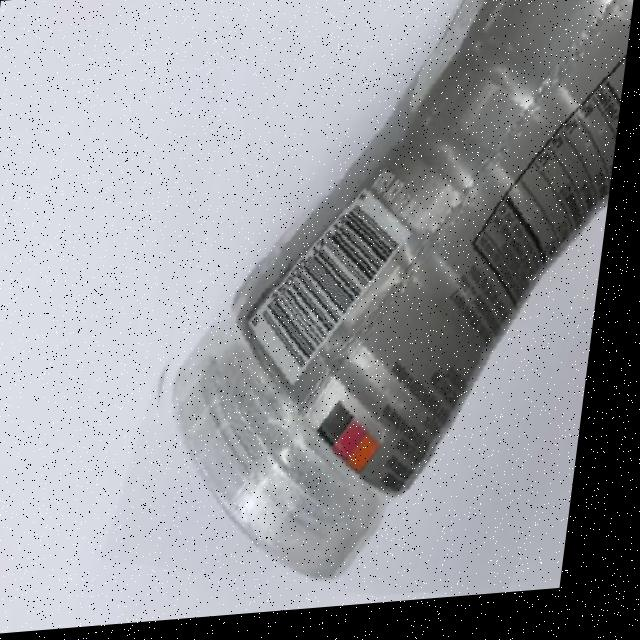litter: (134, 0, 640, 619)
